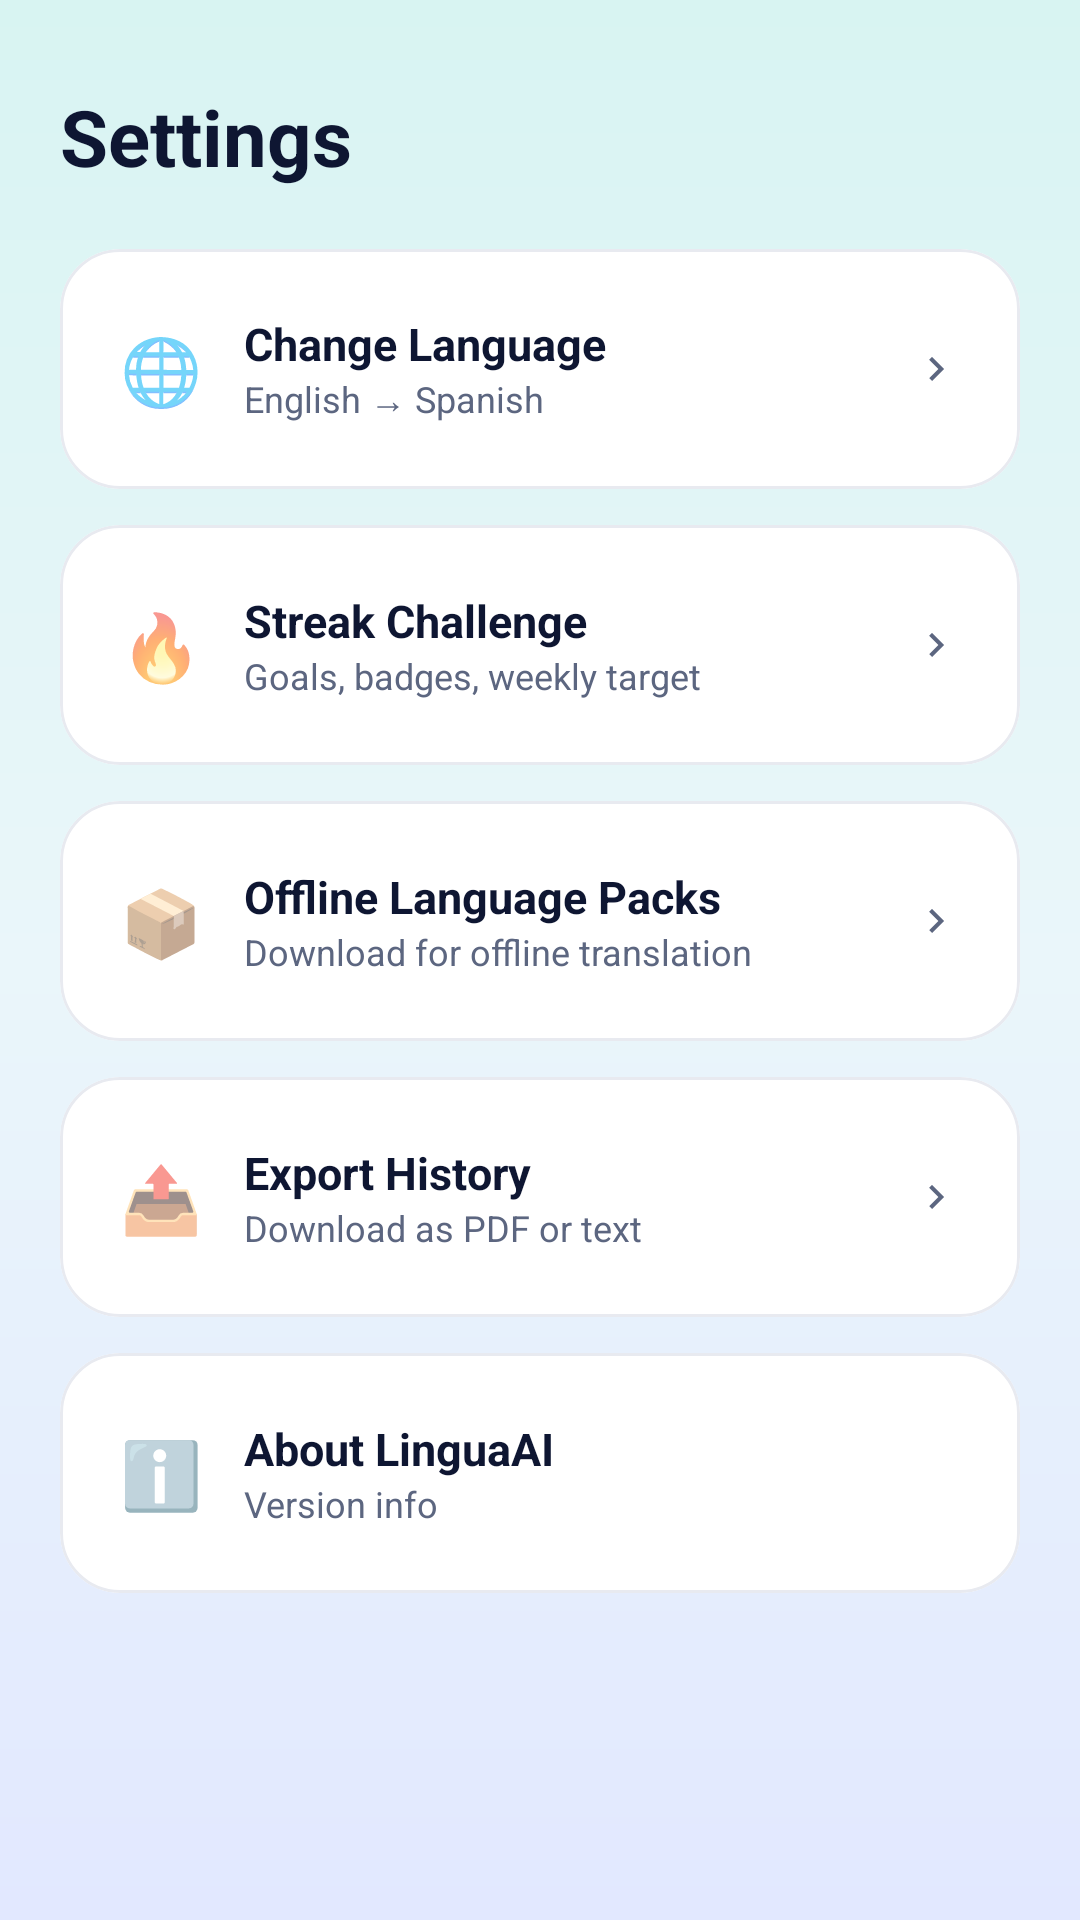

Icons on this 1080px×1920px Android screen, each with its box as (x1,y1,x2,y2):
arrow right: (929,357,944,381), (929,633,944,657), (929,909,944,933), (929,1185,944,1209)
